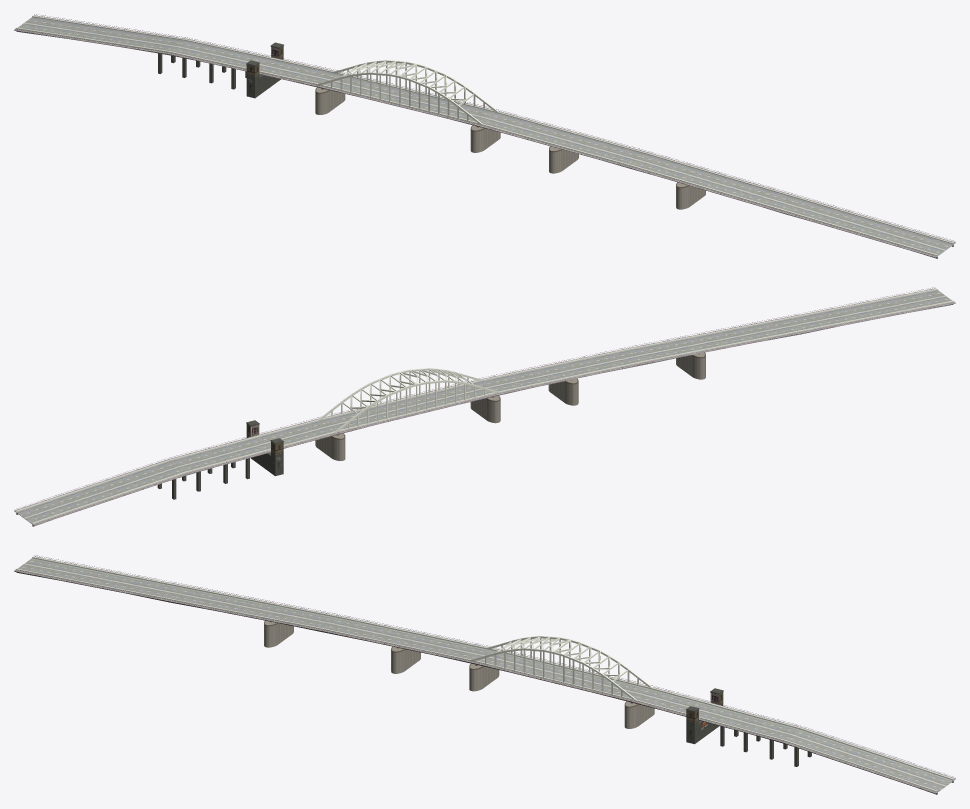
File: JFBridge.fbx
3 renders of one model, top to bottom at view 1: azimuth 90°, elevation 25°; view 2: azimuth 150°, elevation 25°; view 3: azimuth 270°, elevation 25°, orthographic.
Visible parts, largest first — view 1: Component_22_4, Component_22_3, Component_22_2, Component_22_5, Component_22_6, Component_22_1, Component_1_4, Component_1_1, Component_1_3, Component_1_2, Component_21_1; view 2: Component_22_6, Component_22_5, Component_22_2, Component_22_4, Component_22_3, Component_22_1, Component_1_1, Component_1_4, Component_1_2, Component_1_3, Component_21_1; view 3: Component_22_6, Component_22_5, Component_22_2, Component_22_4, Component_22_3, Component_22_1, Component_1_1, Component_1_4, Component_1_2, Component_1_3, Component_21_1.
Part boxes in pixels (x1=…): Component_22_4: x1=782, y1=196, x2=955, y2=258; Component_22_3: x1=628, y1=151, x2=801, y2=213; Component_22_2: x1=475, y1=109, x2=648, y2=168; Component_22_5: x1=167, y1=37, x2=340, y2=88; Component_22_6: x1=14, y1=14, x2=186, y2=55; Component_22_1: x1=321, y1=71, x2=492, y2=125; Component_1_4: x1=315, y1=87, x2=345, y2=114; Component_1_1: x1=470, y1=125, x2=500, y2=152; Component_1_3: x1=676, y1=182, x2=705, y2=209; Component_1_2: x1=549, y1=146, x2=578, y2=173; Component_21_1: x1=246, y1=57, x2=283, y2=98; Component_22_6: x1=14, y1=459, x2=187, y2=526; Component_22_5: x1=167, y1=417, x2=340, y2=475; Component_22_2: x1=475, y1=347, x2=648, y2=396; Component_22_4: x1=782, y1=287, x2=955, y2=334; Component_22_3: x1=628, y1=317, x2=802, y2=364; Component_22_1: x1=324, y1=380, x2=494, y2=434; Component_1_1: x1=470, y1=395, x2=500, y2=423; Component_1_4: x1=315, y1=433, x2=345, y2=460; Component_1_2: x1=548, y1=378, x2=578, y2=405; Component_1_3: x1=676, y1=352, x2=705, y2=379; Component_21_1: x1=246, y1=435, x2=283, y2=476; Component_22_6: x1=782, y1=727, x2=955, y2=794; Component_22_5: x1=629, y1=685, x2=802, y2=743; Component_22_2: x1=321, y1=615, x2=494, y2=664; Component_22_4: x1=14, y1=555, x2=187, y2=602; Component_22_3: x1=167, y1=585, x2=341, y2=632; Component_22_1: x1=475, y1=648, x2=647, y2=702; Component_1_1: x1=469, y1=663, x2=499, y2=691; Component_1_4: x1=624, y1=701, x2=654, y2=728; Component_1_2: x1=391, y1=646, x2=420, y2=673; Component_1_3: x1=264, y1=620, x2=293, y2=647; Component_21_1: x1=686, y1=703, x2=723, y2=744.
Bounding box in the file's own units: 37297 × 4451 × 61928.
